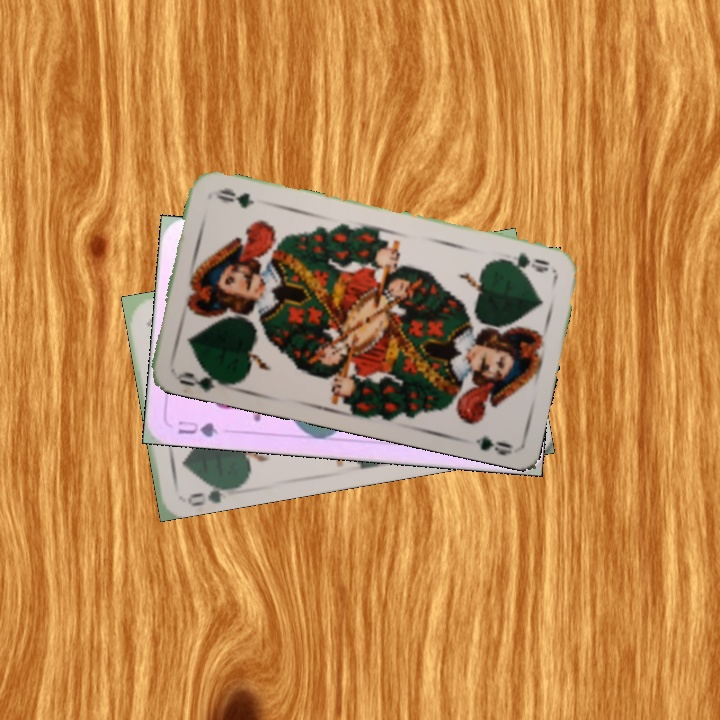GO: (172, 363, 231, 393), (183, 478, 240, 508), (495, 248, 553, 276)
GU: (173, 416, 221, 440)
